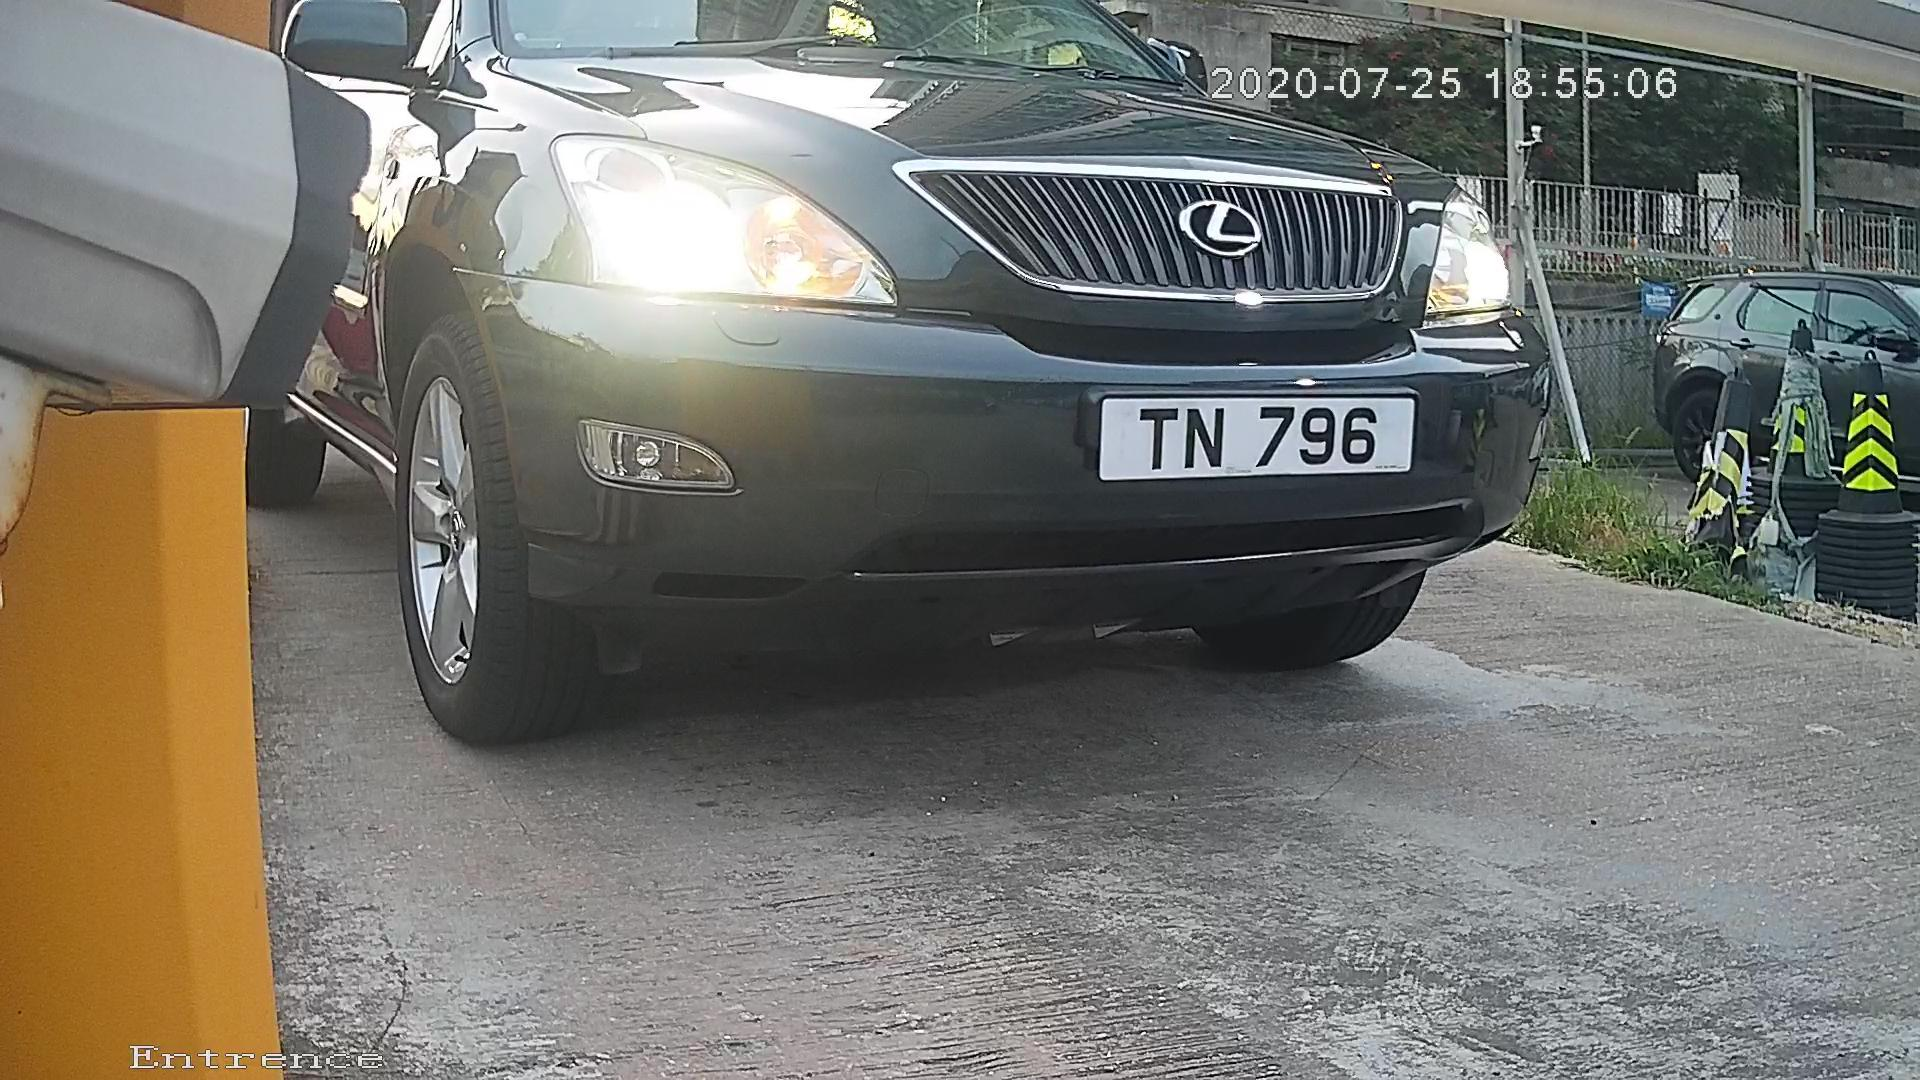privatecar: (291, 1, 1655, 724)
